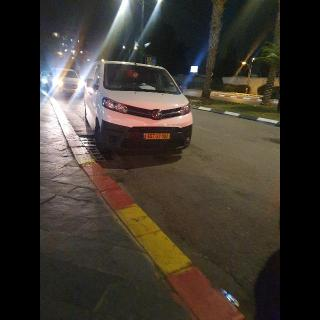LicensePlate: (147, 134, 170, 139)
